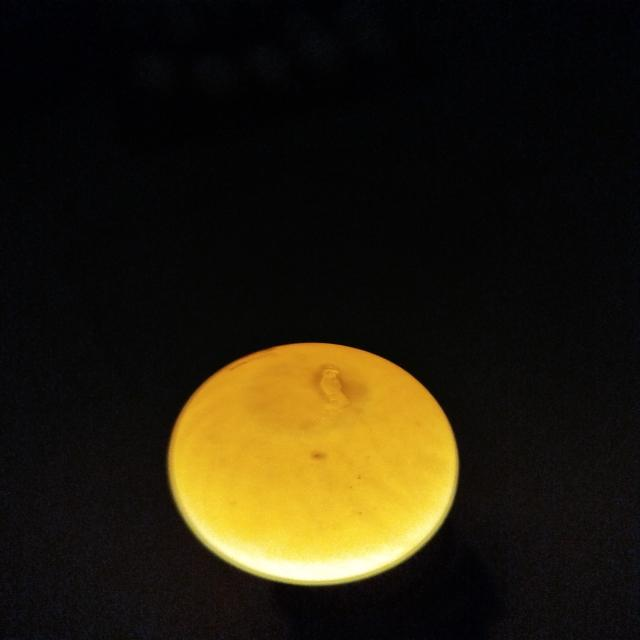Camara de Ar: (251, 369, 363, 431)
Rachadura: (320, 367, 349, 407)
